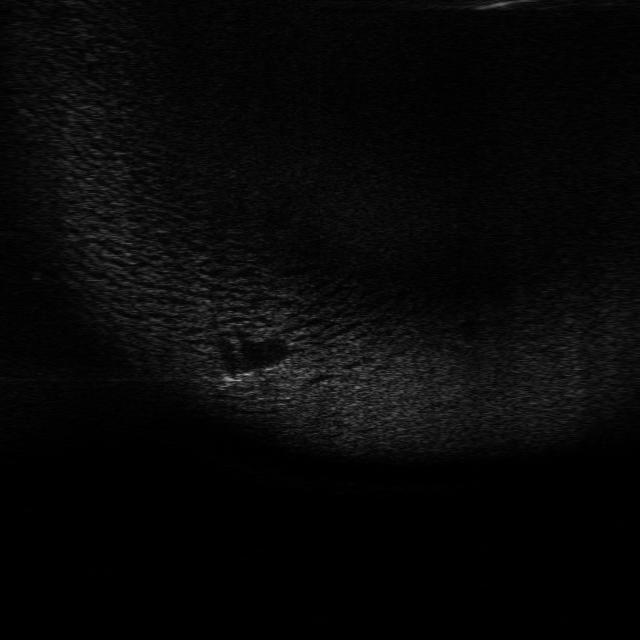plane: (212, 356, 289, 392)
